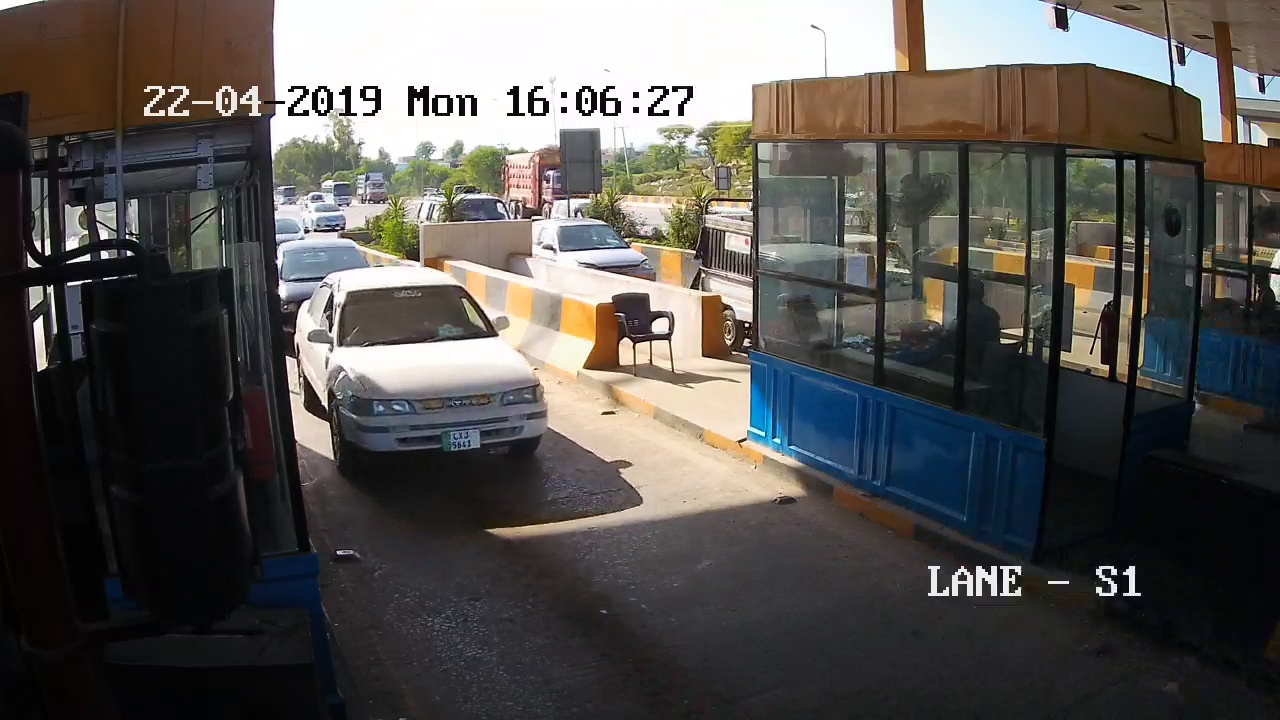Number Plate (Car): (440, 429, 482, 451)
